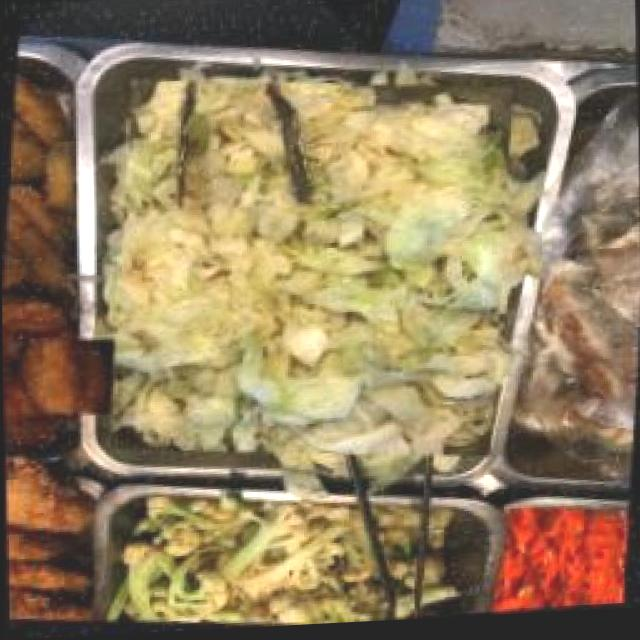carrot_eggs: (498, 507, 632, 618)
chinese_cabbage: (100, 59, 523, 486)
triangle_hash_brown: (2, 311, 103, 440)
